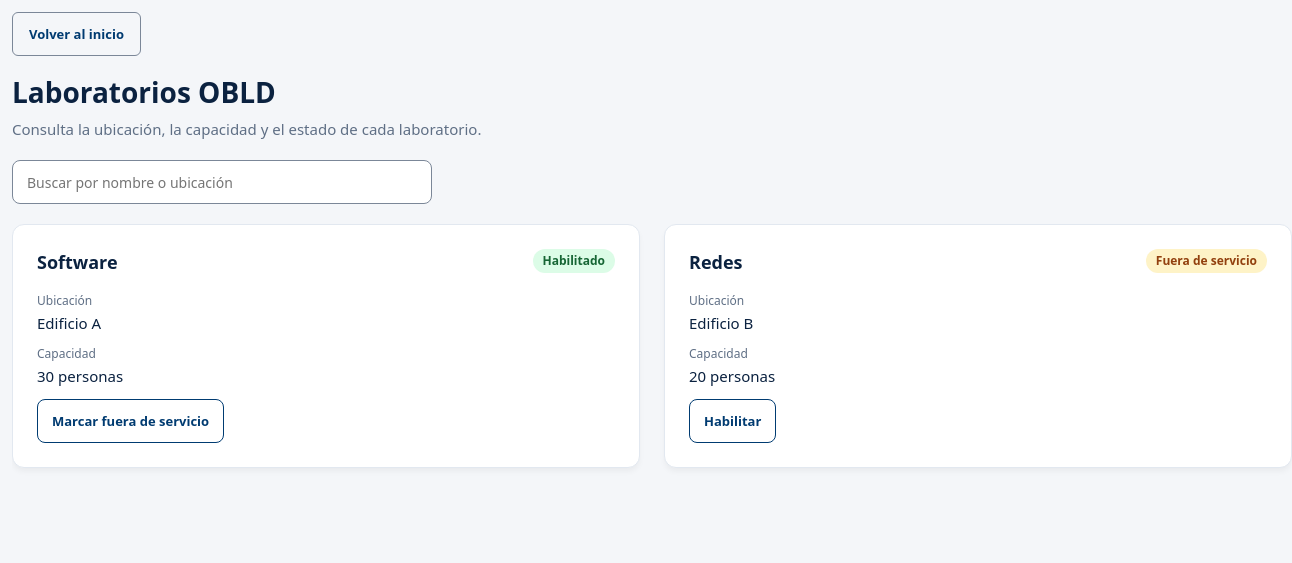
un fallo de red al cambiar el estado se muestra como alerta (AB#113)
Step 1. Click the button with aria-label "Marcar fuera de servicio: Software" → click(131, 421), box [37,399,224,443]
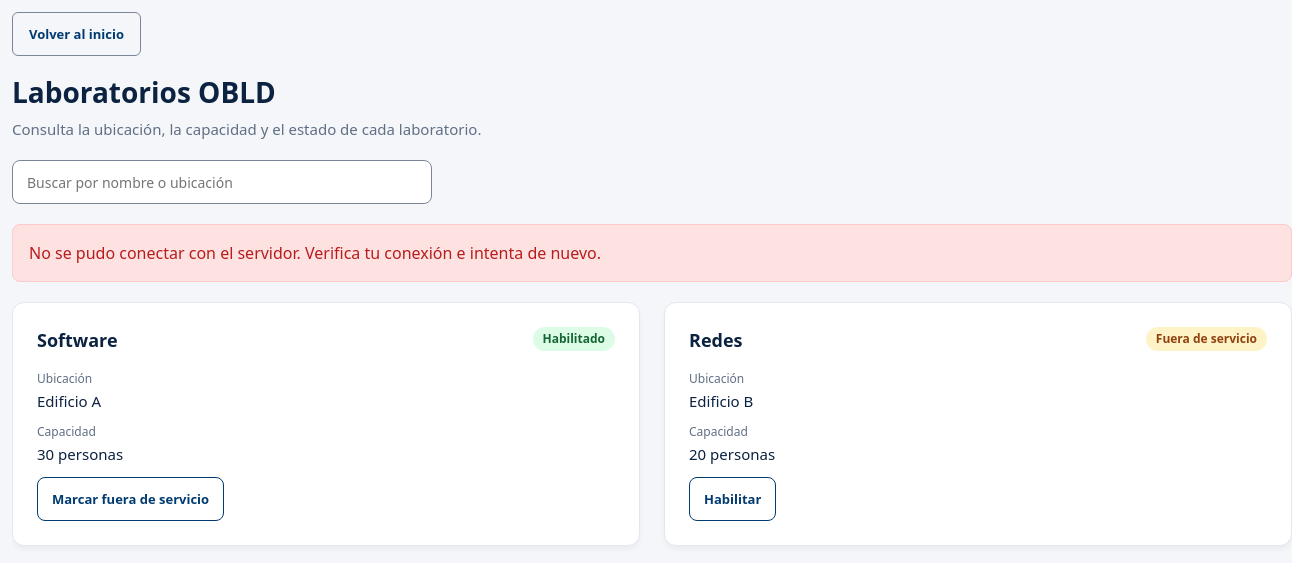
Expected: the text "Habilitado" is shown, [532,327,615,351]
Now the message shows "No se pudo conectar con el servidor.", box [29,242,601,264]
